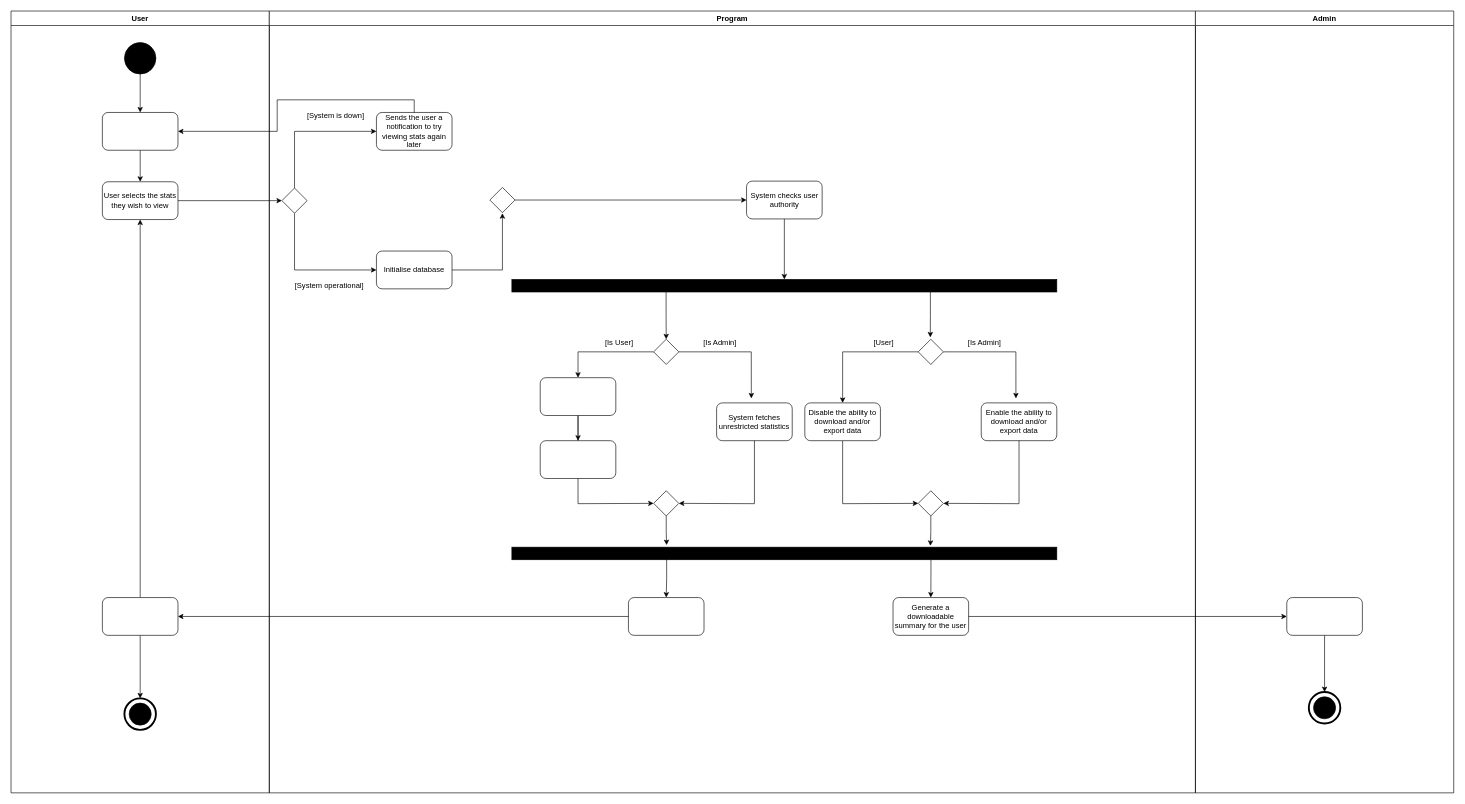
Image size: 1465x804. Some labels were removed from this diagram. The shapes that lost their labels are listed below. From the top down, each one's centre as x and y in pixels, then its label:
At pixel 140 131: "User navigates to Statistics tab".
At pixel 578 396: "System fetches limited statistics".
At pixel 578 459: "Inform the user they are viewing limited statistics".
At pixel 140 616: "User views stats".
At pixel 666 616: "Arrange stats as appropriate table or graphs".
At pixel 1324 616: "User downloads statistic report".
